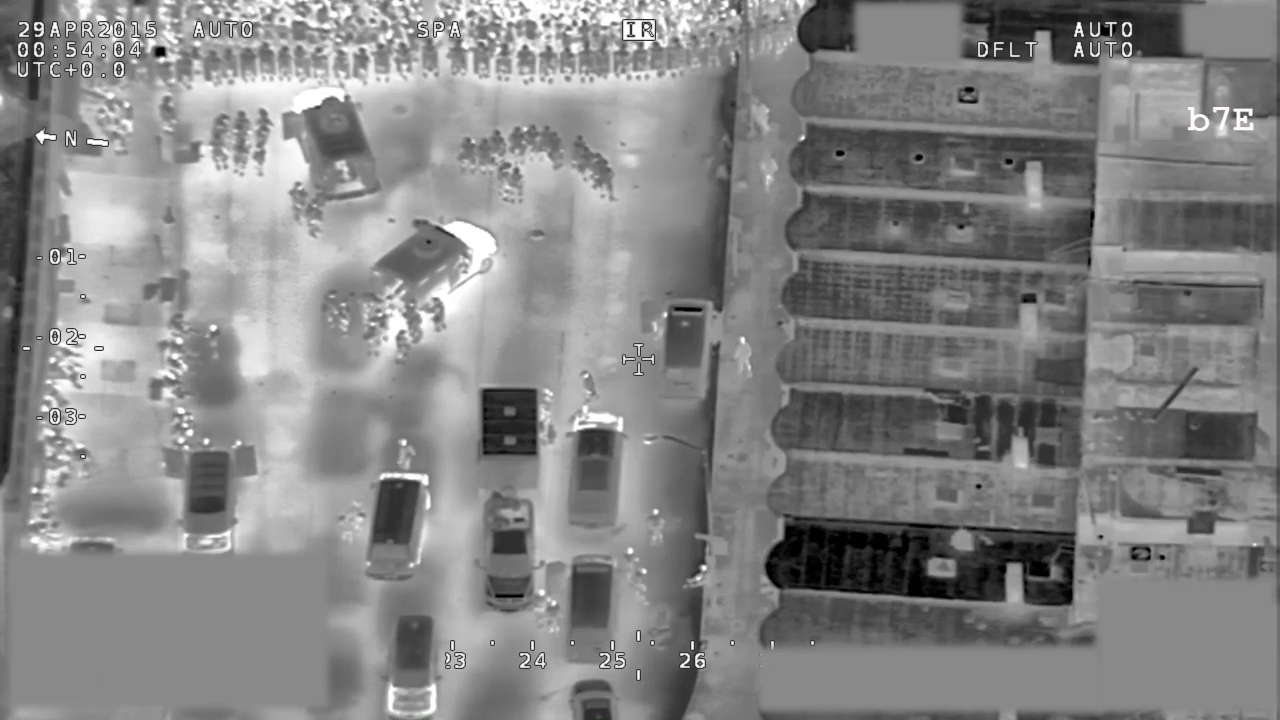vehicle: (366, 216, 501, 332), (278, 83, 388, 200), (161, 442, 259, 553), (637, 289, 724, 403), (560, 407, 627, 536), (363, 467, 433, 584), (471, 384, 541, 495), (379, 605, 446, 720), (480, 494, 537, 616), (565, 550, 617, 664)
